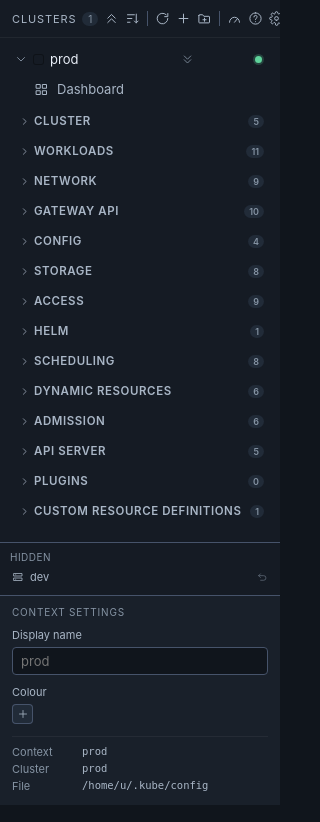
Test: a removed context is listed under Hidden, where it can be brought back
This screenshot has width=320, height=822.
Check: the text "Hidden" is shown, box top-left (10, 551), bottom-right (51, 563)
Click the button named "Show context dev again": (262, 577) top-left (257, 572), bottom-right (268, 582)
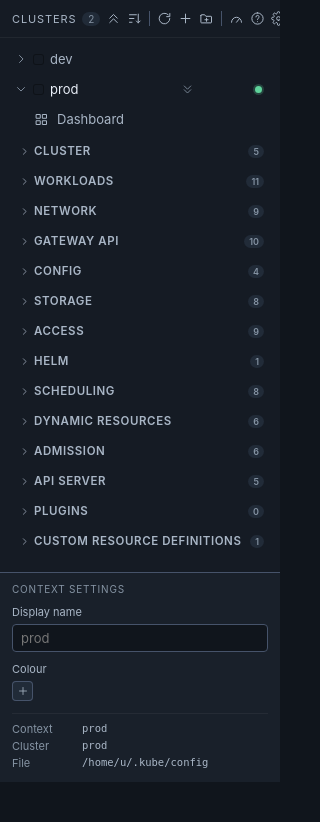
Check: the number of elements with class "context" is 2, box top-left (8, 44), bottom-right (214, 74); top-left (8, 74), bottom-right (272, 560)
